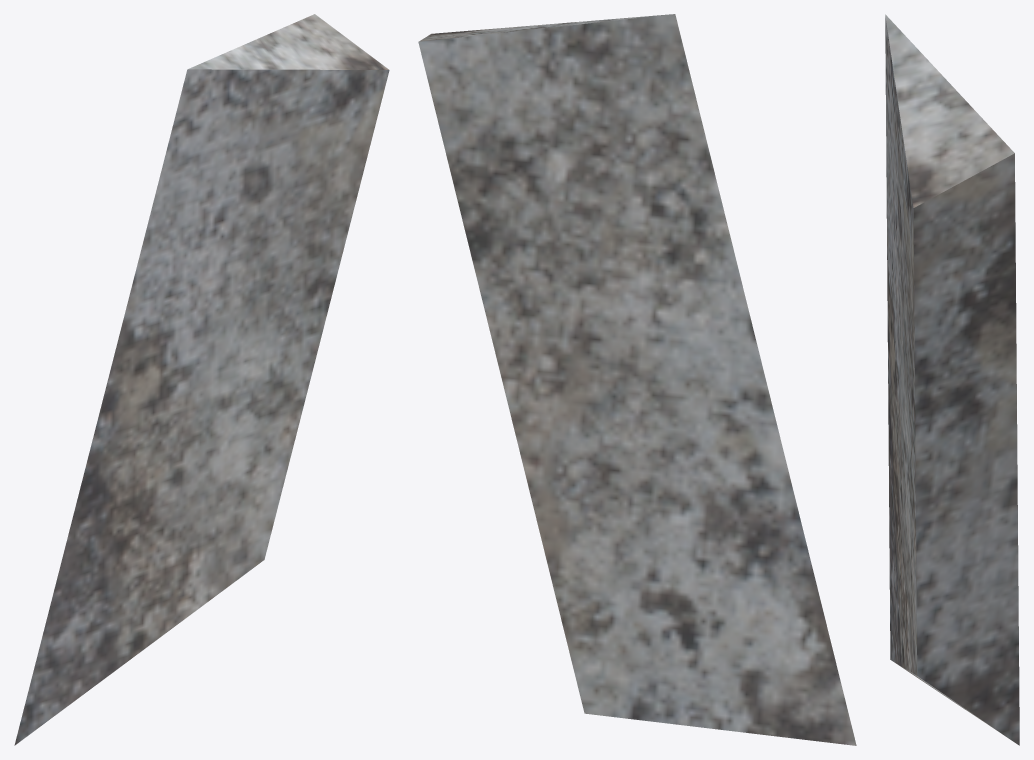
Rendered from Asteroid_Large_001_02_012_03_006.fbx.
3 renders of one model, left to right at view 1: azimuth 30°, elevation 25°; view 2: azimuth 150°, elevation 25°; view 3: azimuth 270°, elevation 25°, orthographic. The views are drawn at different scales.
Parts seen in each view (by area): view 1: Asteroid_Large_001_02_012_03_006; view 2: Asteroid_Large_001_02_012_03_006; view 3: Asteroid_Large_001_02_012_03_006.
Boxes of the visible parts, box(x1,y1,x2,y2) form: Asteroid_Large_001_02_012_03_006: box(14, 14, 389, 745); Asteroid_Large_001_02_012_03_006: box(418, 14, 856, 745); Asteroid_Large_001_02_012_03_006: box(885, 14, 1019, 745).
Size of the model in its own units: 4.84 by 7.64 by 1.26.
